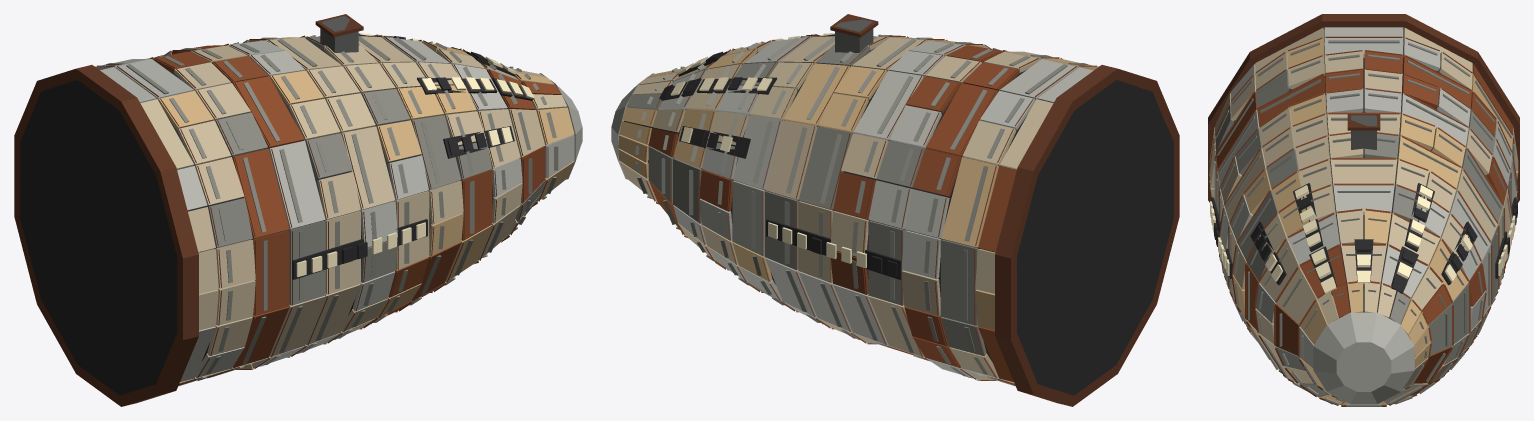
File: ship_nose.glb
3 renders of one model, left to right at view 1: azimuth 30°, elevation 25°; view 2: azimuth 150°, elevation 25°; view 3: azimuth 270°, elevation 25°, orthographic. The views are drawn at different scales.
Parts seen in each view (by area): view 1: ship_nose; view 2: ship_nose; view 3: ship_nose.
Part boxes in pixels (bbox=[...]): ship_nose: bbox=[14, 14, 582, 406]; ship_nose: bbox=[611, 14, 1179, 406]; ship_nose: bbox=[1208, 14, 1519, 406].
Bounding box in the file's own units: 58.4 × 36.6 × 36.32.
